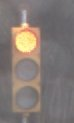Red: (5, 21, 51, 113)
